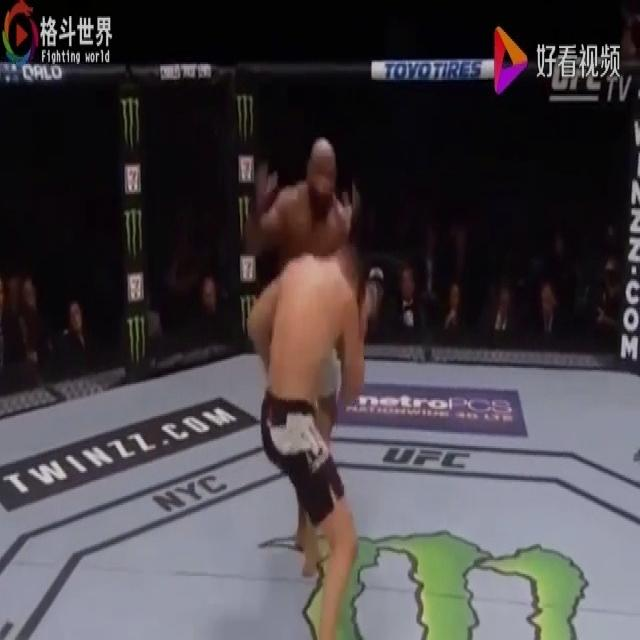fight: (245, 124, 385, 638)
